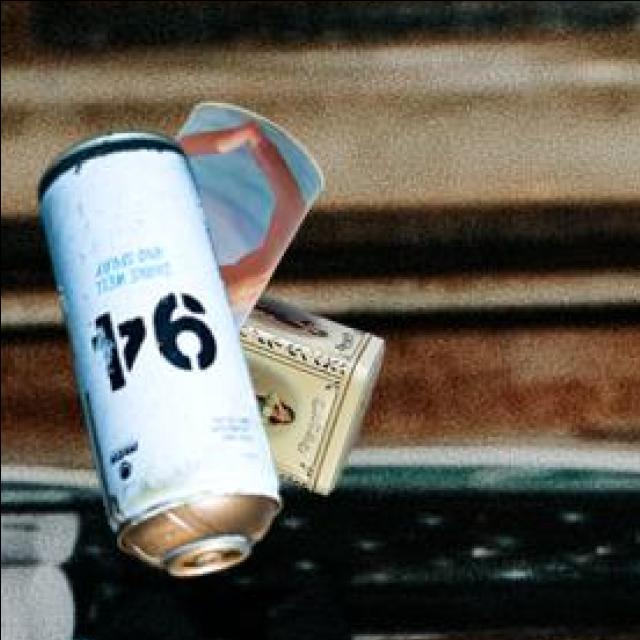logam: (41, 133, 284, 579), (177, 106, 326, 333), (240, 298, 386, 497)
